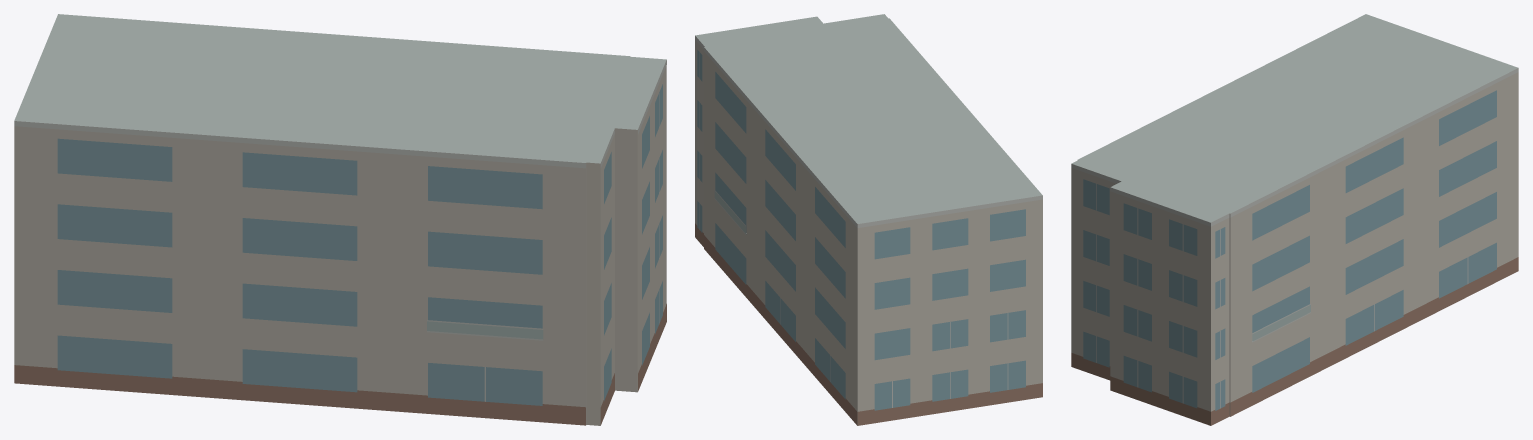
File: survey-upis-32617665.glb
The picture shows the model from 3 angles, left to right: view 1: azimuth 30°, elevation 25°; view 2: azimuth 150°, elevation 25°; view 3: azimuth 270°, elevation 25°; orthographic projection. The views are drawn at different scales.
Visible parts, largest first — view 1: survey-upis-32617665.tmp; view 2: survey-upis-32617665.tmp; view 3: survey-upis-32617665.tmp.
Boxes of the visible parts, x1,y1,x2,y2 form: survey-upis-32617665.tmp: [14, 14, 666, 425]; survey-upis-32617665.tmp: [695, 14, 1042, 425]; survey-upis-32617665.tmp: [1071, 14, 1518, 425].
Bounding box in the file's own units: 26.89 × 12.2 × 24.35.
